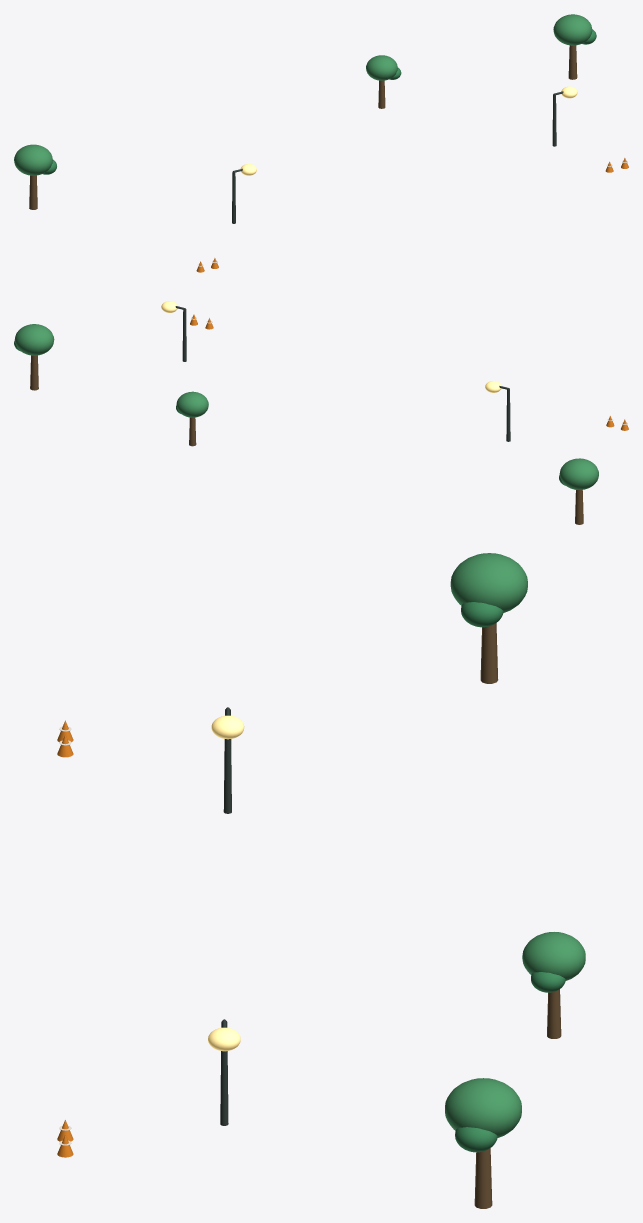
File: street_props.glb
3 views of the same model, one above another, from view 1: azimuth 30°, elevation 25°; view 2: azimuth 150°, elevation 25°; view 3: azimuth 270°, elevation 25° (orthographic). The views are drawn at different scales.
Visible parts, largest first — view 1: leaf_main (×3); view 2: leaf_main (×3); view 3: leaf_main (×3), trunk (×2).
Boxes of the visible parts, x1,y1,x2,y2 form: leaf_main (×3): (14, 14, 592, 175); leaf_main (×3): (14, 324, 598, 489); leaf_main (×3): (445, 553, 585, 1137); trunk (×2): (474, 623, 498, 1208).
Size of the model in its own units: 11.28 by 1.15 by 4.49.
